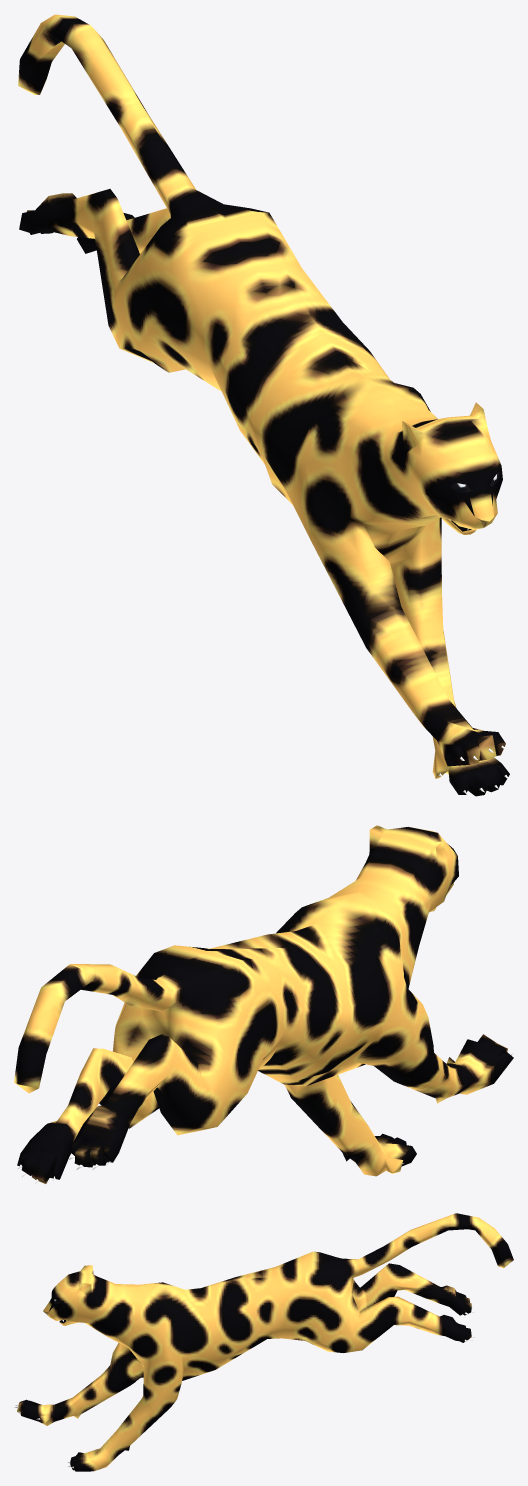
Rendered from Cheetah01.glb.
3 views of the same model, one above another, from view 1: azimuth 30°, elevation 25°; view 2: azimuth 150°, elevation 25°; view 3: azimuth 270°, elevation 25° (orthographic). The views are drawn at different scales.
Parts seen in each view (by area): view 1: Cheetah01; view 2: Cheetah01; view 3: Cheetah01.
Part boxes in pixels (x1=…): Cheetah01: x1=18, y1=14, x2=509, y2=796; Cheetah01: x1=14, y1=825, x2=513, y2=1183; Cheetah01: x1=14, y1=1213, x2=513, y2=1471.
Size of what is drawn, in the model's own units: 0.3904 by 1.28 by 2.34.
Materials: 1 (1 with a texture image).
